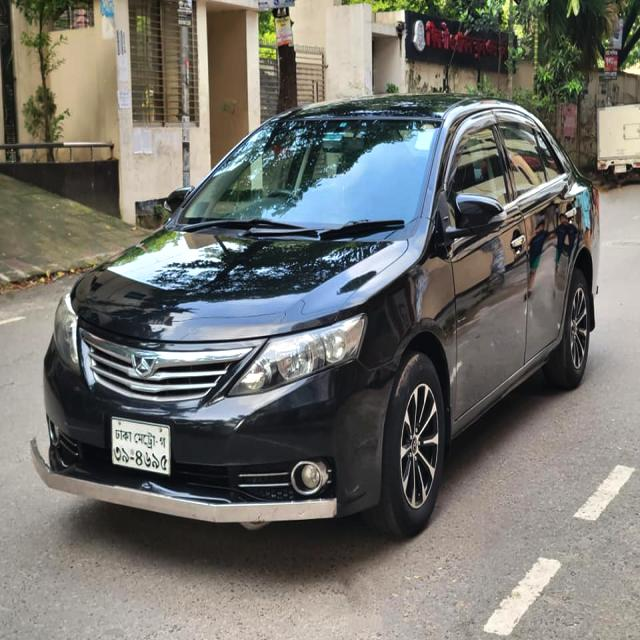black: (34, 95, 602, 540)
